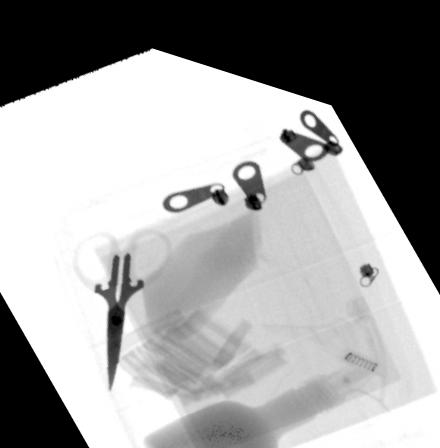Scissors: (72, 217, 172, 386)
